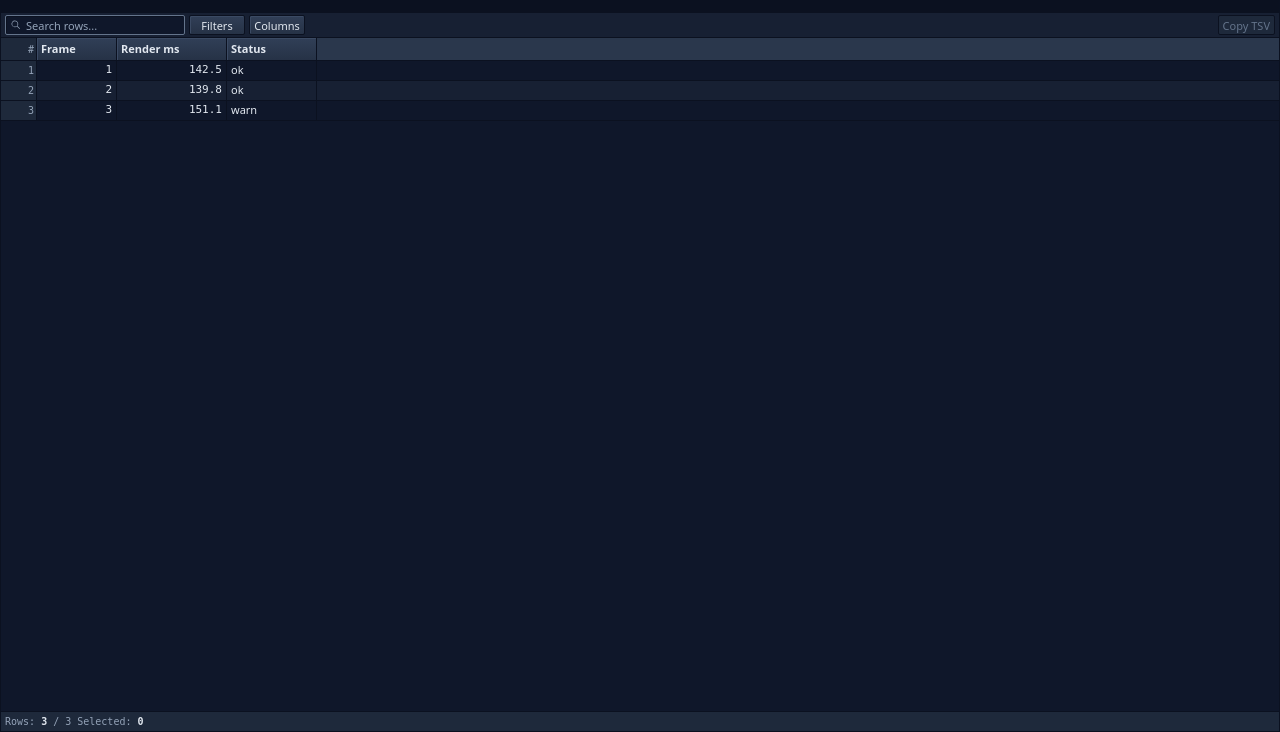
Test case: DataGrid › supports sorting, global filtering, range selection stats, and inline cell editing
Later steps or results of the test are not shown.
Expected: the text "142.5" is shown, [117,61,227,80]
// Sort by Render ms (TanStack numeric defaults to desc on first click, asc on second)
Click the text "Render ms".
click(150, 49)  # box [121,42,180,56]
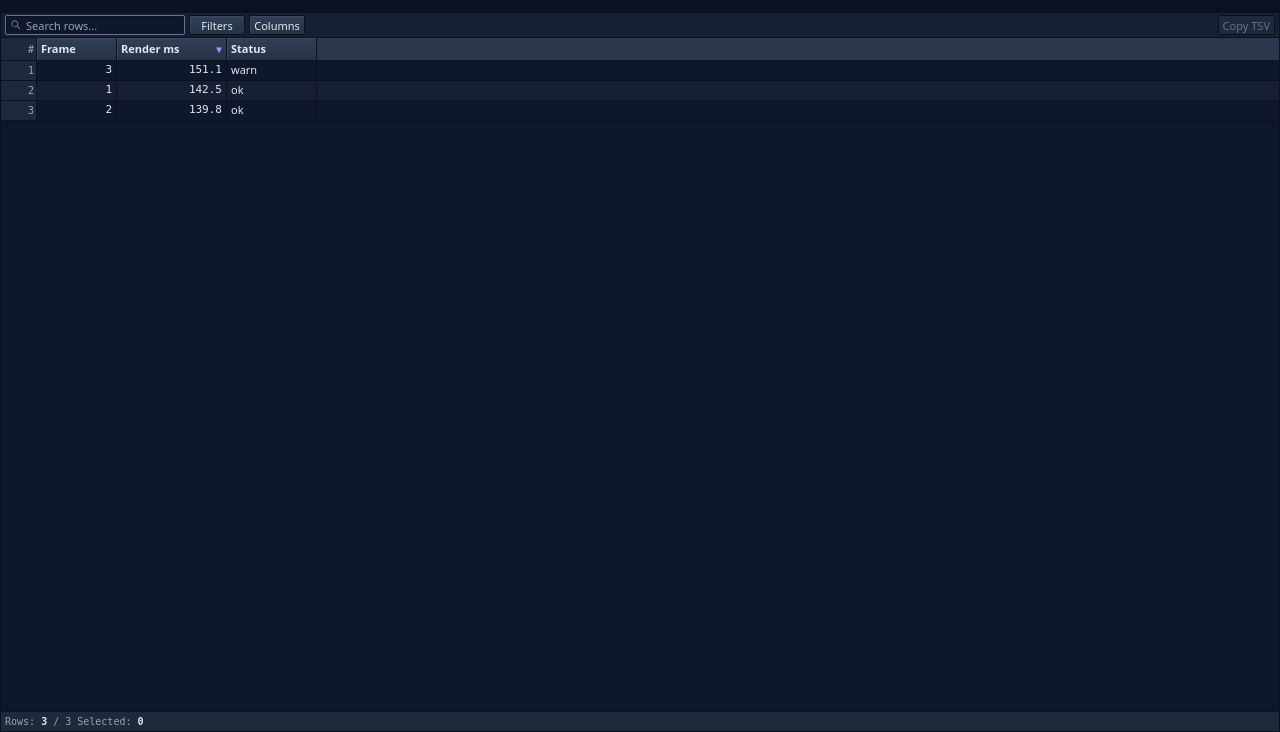
Expected: the cell "151.1" is shown, [117,61,227,80]
Click the text "Render ms".
click(150, 49)  # box [121,42,180,56]
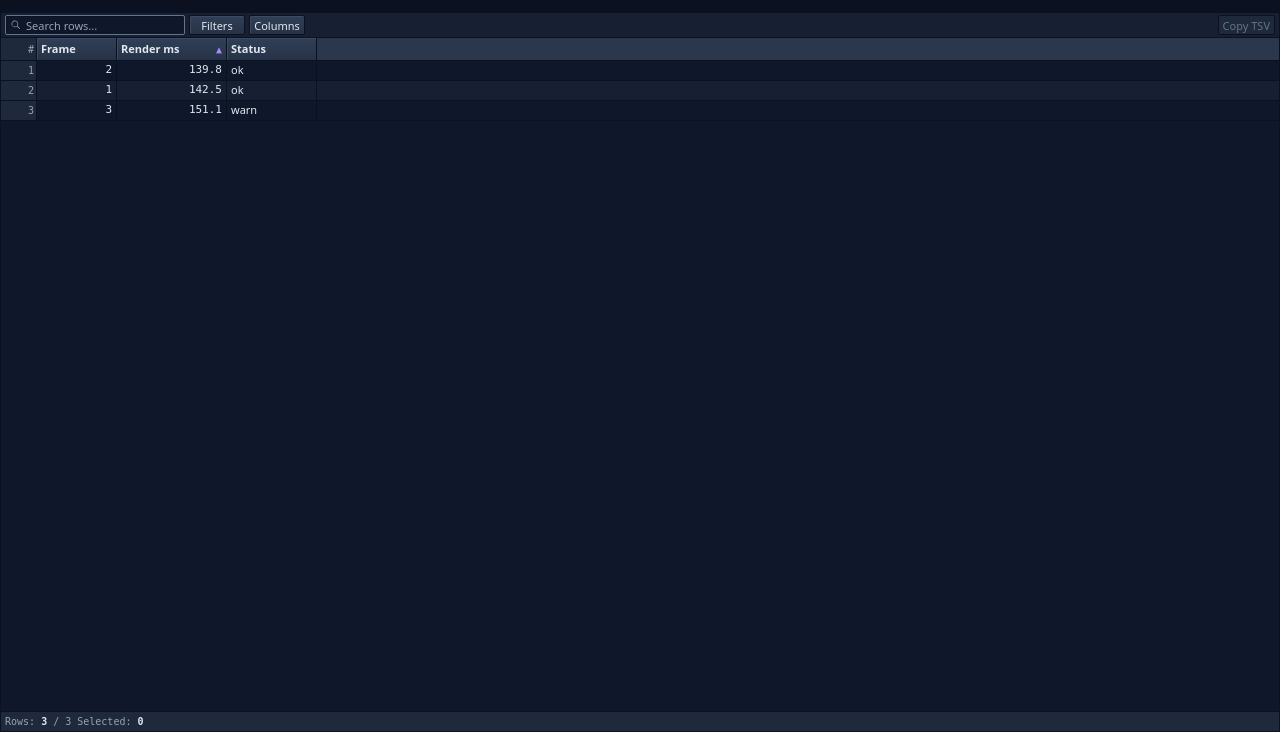
// Range select numeric cells via row + shift+click
Click the text "139.8".
click(172, 70)  # box [117,61,227,80]
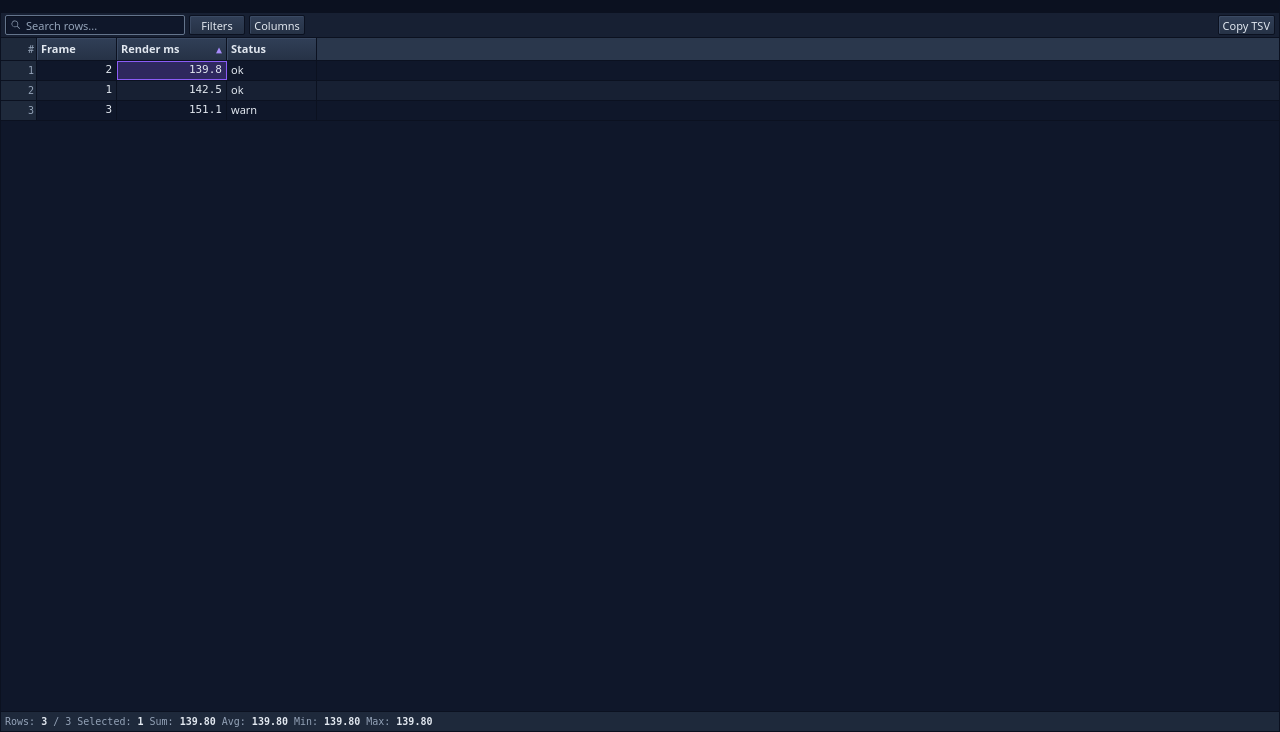
Click the text "151.1".
click(172, 110)  # box [117,101,227,120]
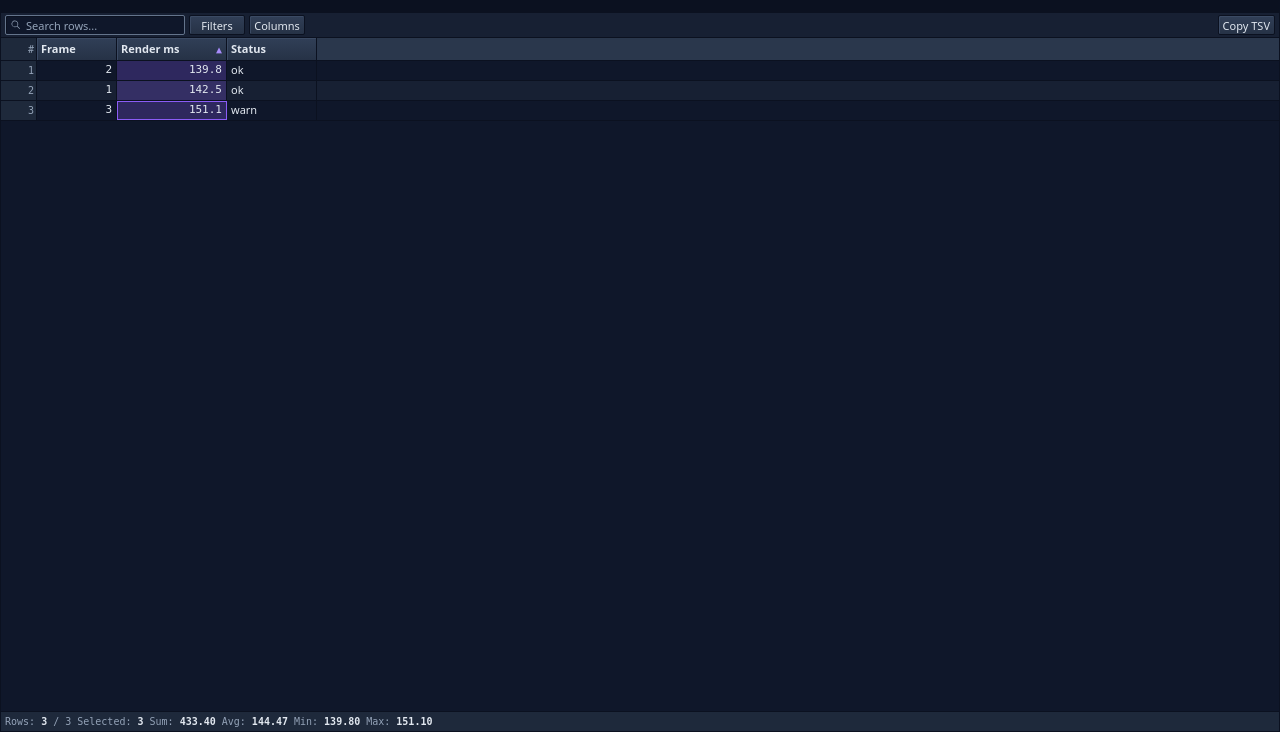
Expected: the text "433.40" is shown, [180,716,216,727]
// Filter rows
Type "warn" into the search field named "Search grid rows".
click(102, 25); type("warn")  # box [24,16,180,34]
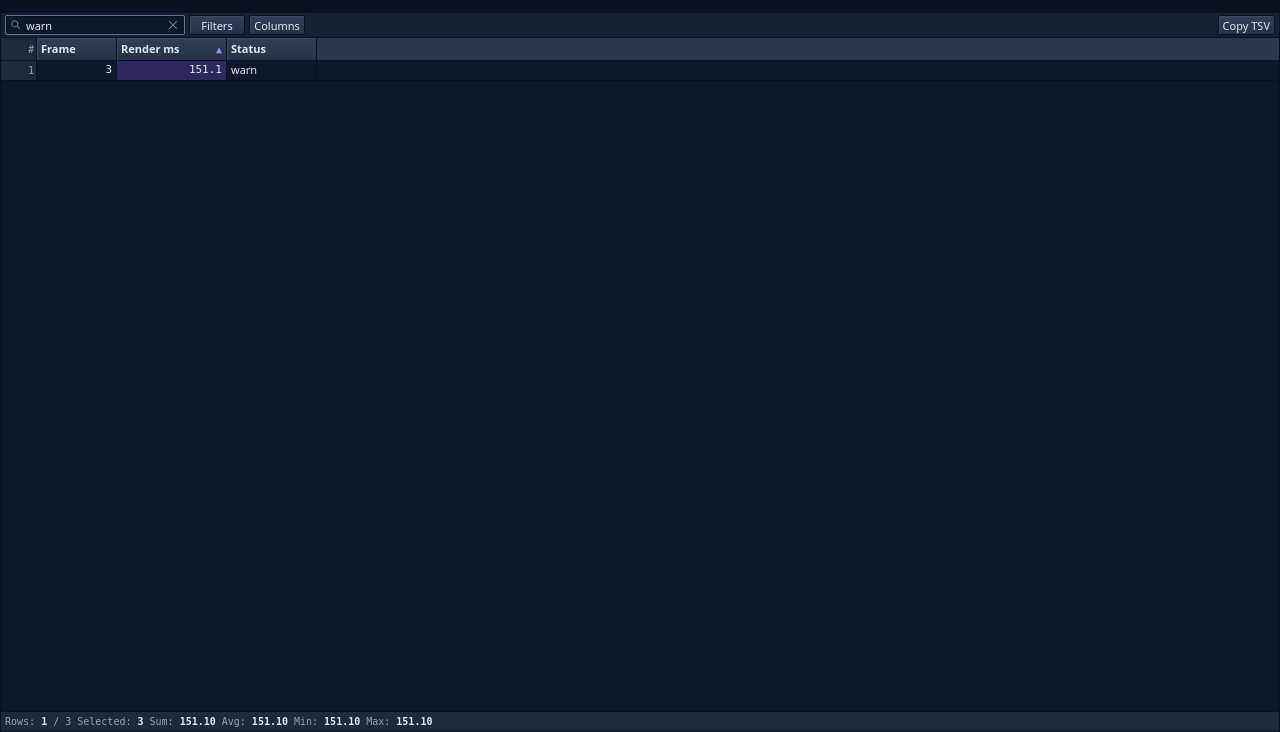
Expected: the text "151.1" is shown, [117,61,227,80]
Expected: the text "139.8" is gone
